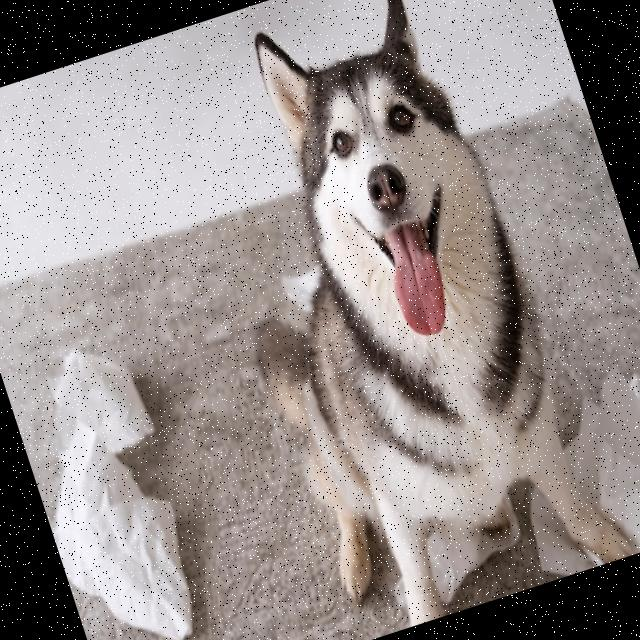Dog: (160, 0, 638, 640)
